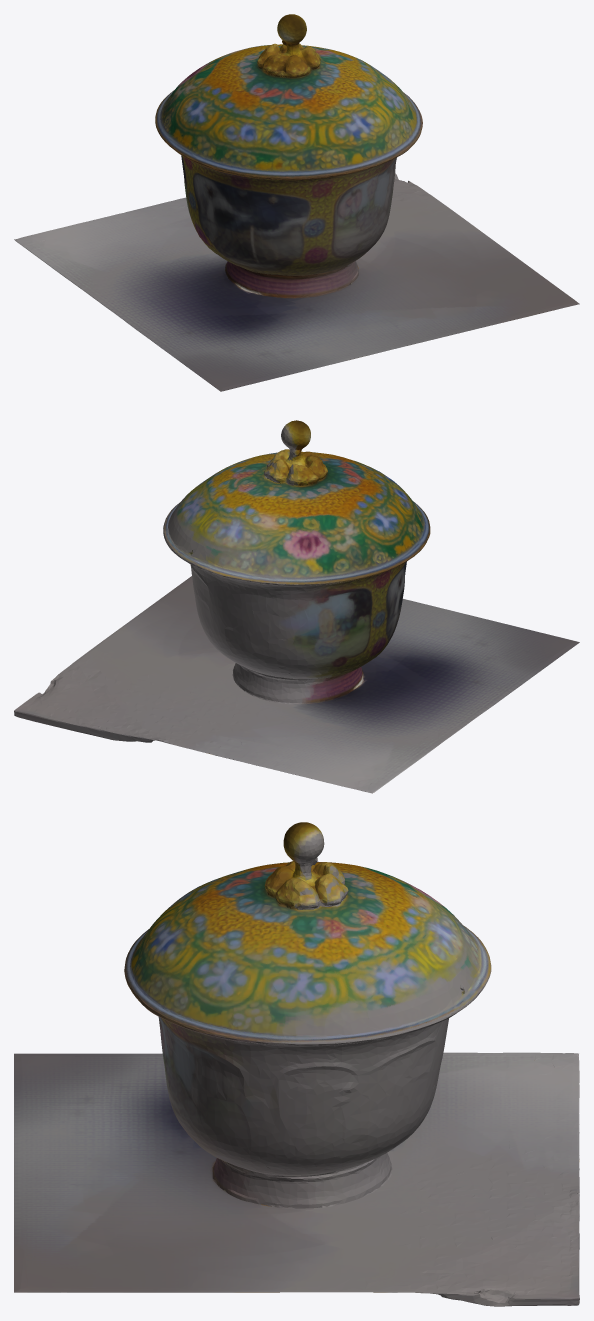
Rendered from 乾隆款画珐琅开光山水人物图盖碗.glb.
3 views of the same model, one above another, from view 1: azimuth 30°, elevation 25°; view 2: azimuth 150°, elevation 25°; view 3: azimuth 270°, elevation 25° (orthographic). The views are drawn at different scales.
Visible parts, largest first — view 1: world; view 2: world; view 3: world.
Boxes of the visible parts, x1,y1,x2,y2 form: world: [14, 14, 579, 391]; world: [14, 420, 579, 793]; world: [14, 822, 579, 1306].
Bounding box in the file's own units: 1 × 0.7061 × 1.
1 material, 1 textured.
